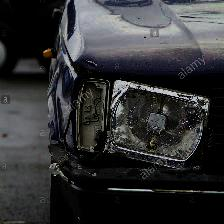head_lamp: (49, 73, 174, 185)
